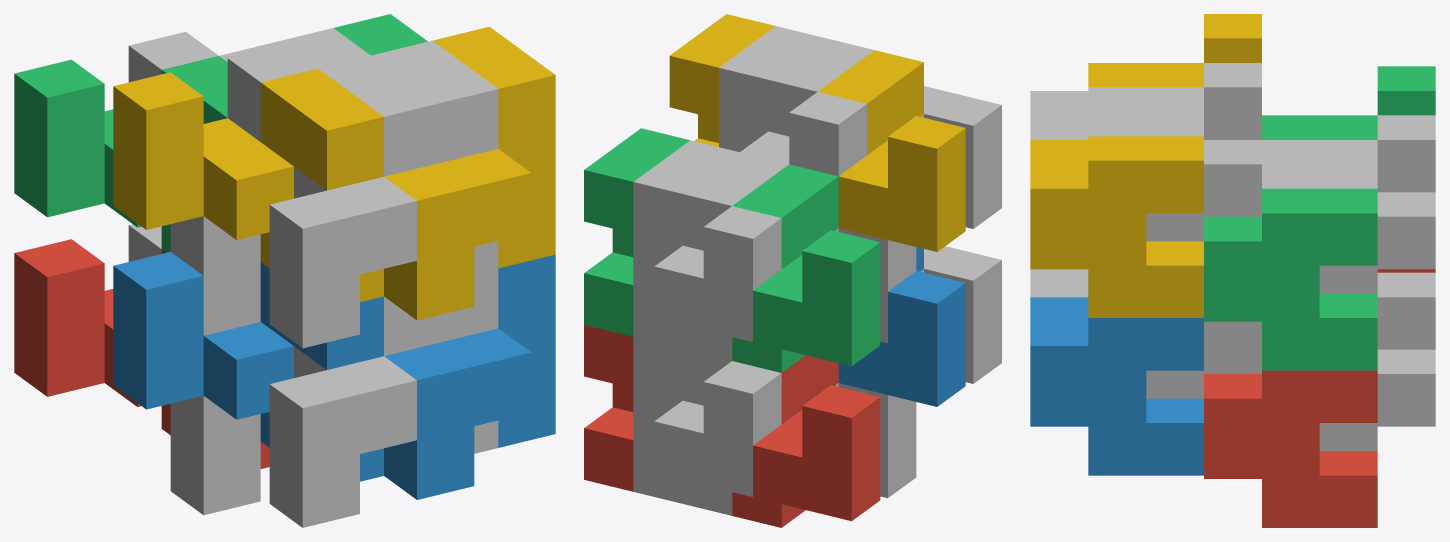
File: tiling.obj
The picture shows the model from 3 angles, left to right: view 1: azimuth 30°, elevation 25°; view 2: azimuth 150°, elevation 25°; view 3: azimuth 270°, elevation 25°; orthographic projection. The views are drawn at different scales.
Visible parts, largest first — view 1: copy_1_domain_4, copy_2_domain_8, copy_2_domain_4, copy_1_domain_2, copy_2_domain_6, copy_2_domain_2, copy_1_domain_3, copy_1_domain_1, copy_1_domain_8, copy_2_domain_1, copy_2_domain_3, copy_1_domain_7 (+3 smaller); view 2: copy_1_domain_3, copy_1_domain_7, copy_1_domain_4, copy_1_domain_5, copy_1_domain_1, copy_1_domain_8, copy_1_domain_2, copy_2_domain_4, copy_2_domain_7, copy_2_domain_3, copy_2_domain_5, copy_2_domain_1 (+2 smaller); view 3: copy_2_domain_8, copy_2_domain_7, copy_2_domain_6, copy_2_domain_5, copy_1_domain_7, copy_1_domain_8, copy_1_domain_5, copy_1_domain_3, copy_2_domain_4, copy_1_domain_4, copy_1_domain_6, copy_2_domain_3 (+1 smaller).
Boxes of the visible parts, x1,y1,x2,y2 form: copy_1_domain_4: (113, 68, 383, 301); copy_2_domain_8: (384, 26, 555, 320); copy_2_domain_4: (269, 54, 441, 348); copy_1_domain_2: (113, 252, 383, 481); copy_2_domain_6: (384, 254, 555, 499); copy_2_domain_2: (269, 296, 441, 527); copy_1_domain_3: (14, 56, 227, 252); copy_1_domain_1: (14, 239, 269, 468); copy_1_domain_8: (227, 40, 498, 274); copy_2_domain_1: (170, 395, 260, 515); copy_2_domain_3: (170, 42, 280, 335); copy_1_domain_7: (128, 28, 370, 82); copy_1_domain_3: (732, 164, 880, 372); copy_1_domain_7: (633, 140, 781, 348); copy_1_domain_4: (818, 50, 965, 251); copy_1_domain_5: (633, 337, 781, 503); copy_1_domain_1: (732, 355, 880, 527); copy_1_domain_8: (719, 26, 866, 176); copy_1_domain_2: (838, 247, 965, 406); copy_2_domain_4: (768, 38, 1001, 228); copy_2_domain_7: (584, 128, 689, 336); copy_2_domain_3: (683, 152, 916, 360); copy_2_domain_5: (584, 325, 633, 491); copy_2_domain_1: (683, 349, 916, 515); copy_2_domain_8: (1030, 136, 1203, 317); copy_2_domain_7: (1204, 188, 1377, 370); copy_2_domain_6: (1030, 297, 1203, 475); copy_2_domain_5: (1204, 370, 1377, 527); copy_1_domain_7: (1262, 115, 1435, 293); copy_1_domain_8: (1088, 63, 1261, 241); copy_1_domain_5: (1319, 272, 1435, 450); copy_1_domain_3: (1262, 66, 1435, 139); copy_2_domain_4: (1030, 87, 1203, 139); copy_1_domain_4: (1088, 14, 1261, 87); copy_1_domain_6: (1146, 321, 1261, 398); copy_2_domain_3: (1262, 140, 1377, 164).
Bounding box in the file's own units: 6 × 7 × 7.
